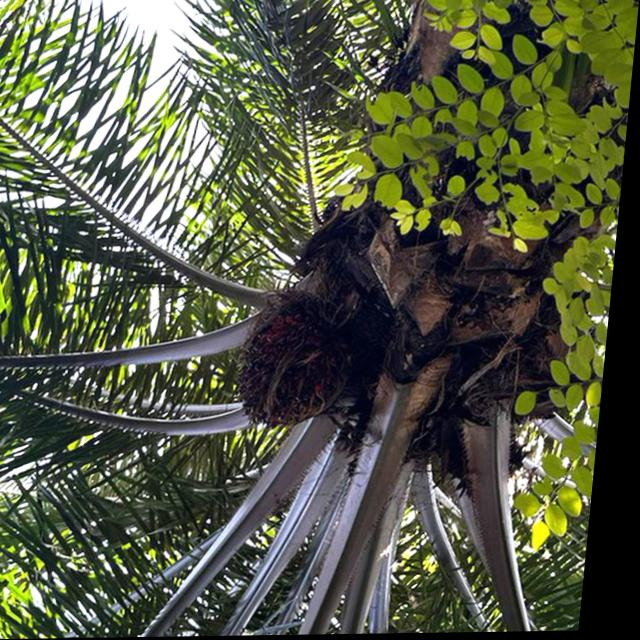ripe: (228, 299, 359, 444)
